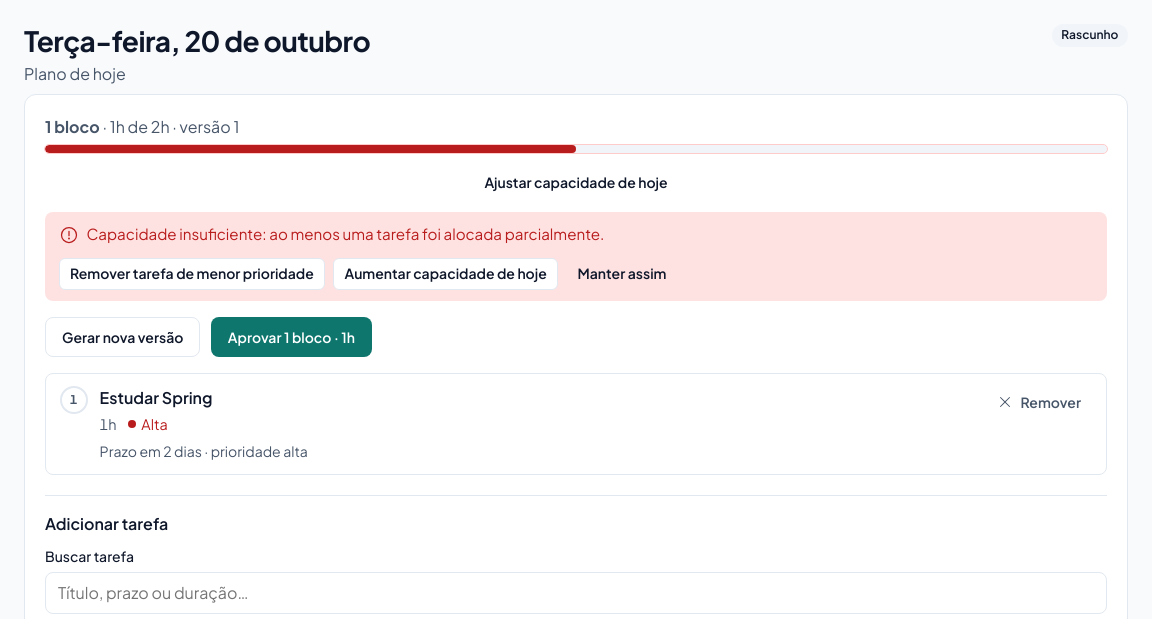
Test: HomePage — plano do dia › F1 — leitura › T2: banner de conflito oferece ações acionáveis
Expected: the button "Remover tarefa de menor prioridade" is shown, [59,258,325,290]
Click the button "Aumentar capacidade de hoje": (446, 274) [333,258,558,290]
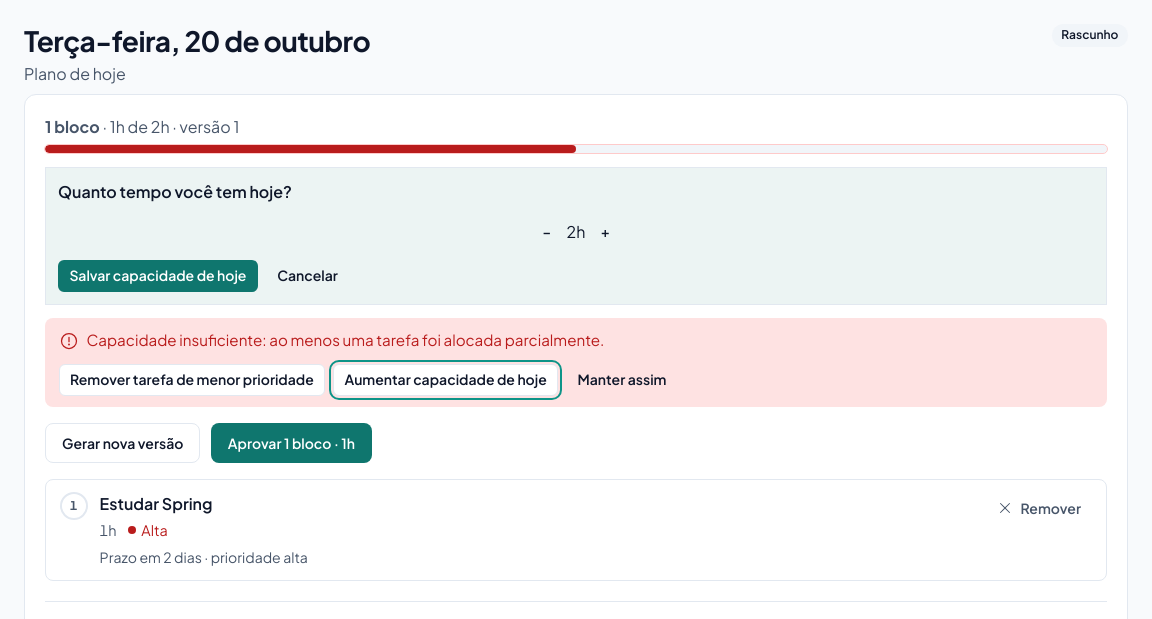
Expected: the element named "ajustar capacidade de hoje" is shown, [45,167,1107,305]
